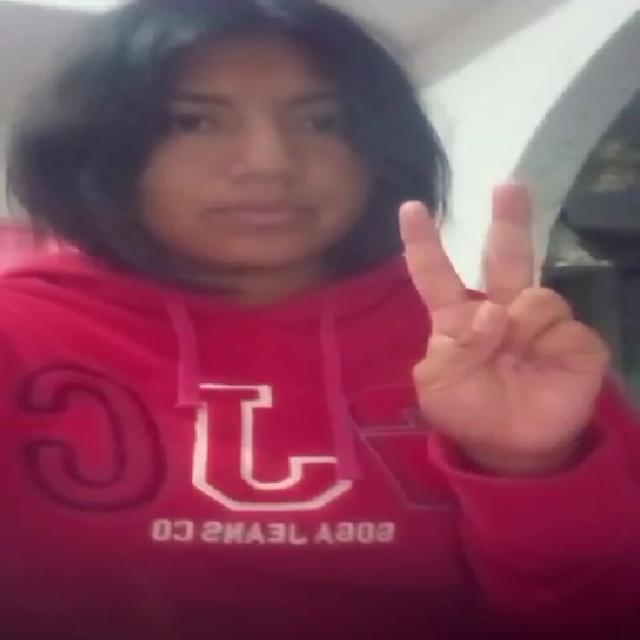V: (374, 168, 622, 460)
